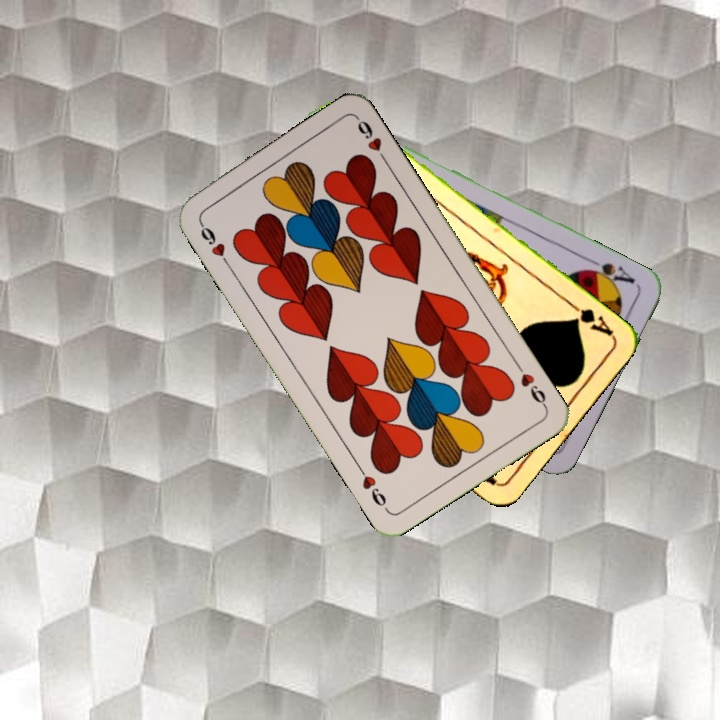GA: (564, 298, 617, 339)
H9: (511, 358, 550, 410), (195, 217, 233, 270)
SA: (580, 254, 638, 291)
